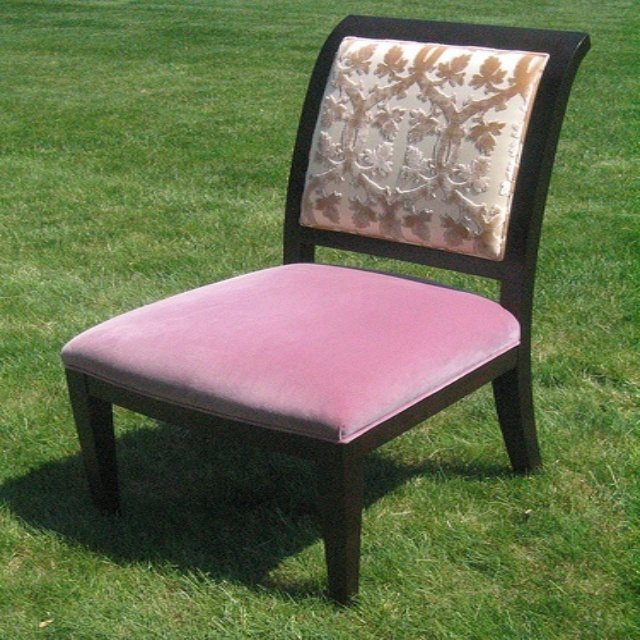obstacle: (61, 15, 589, 602)
